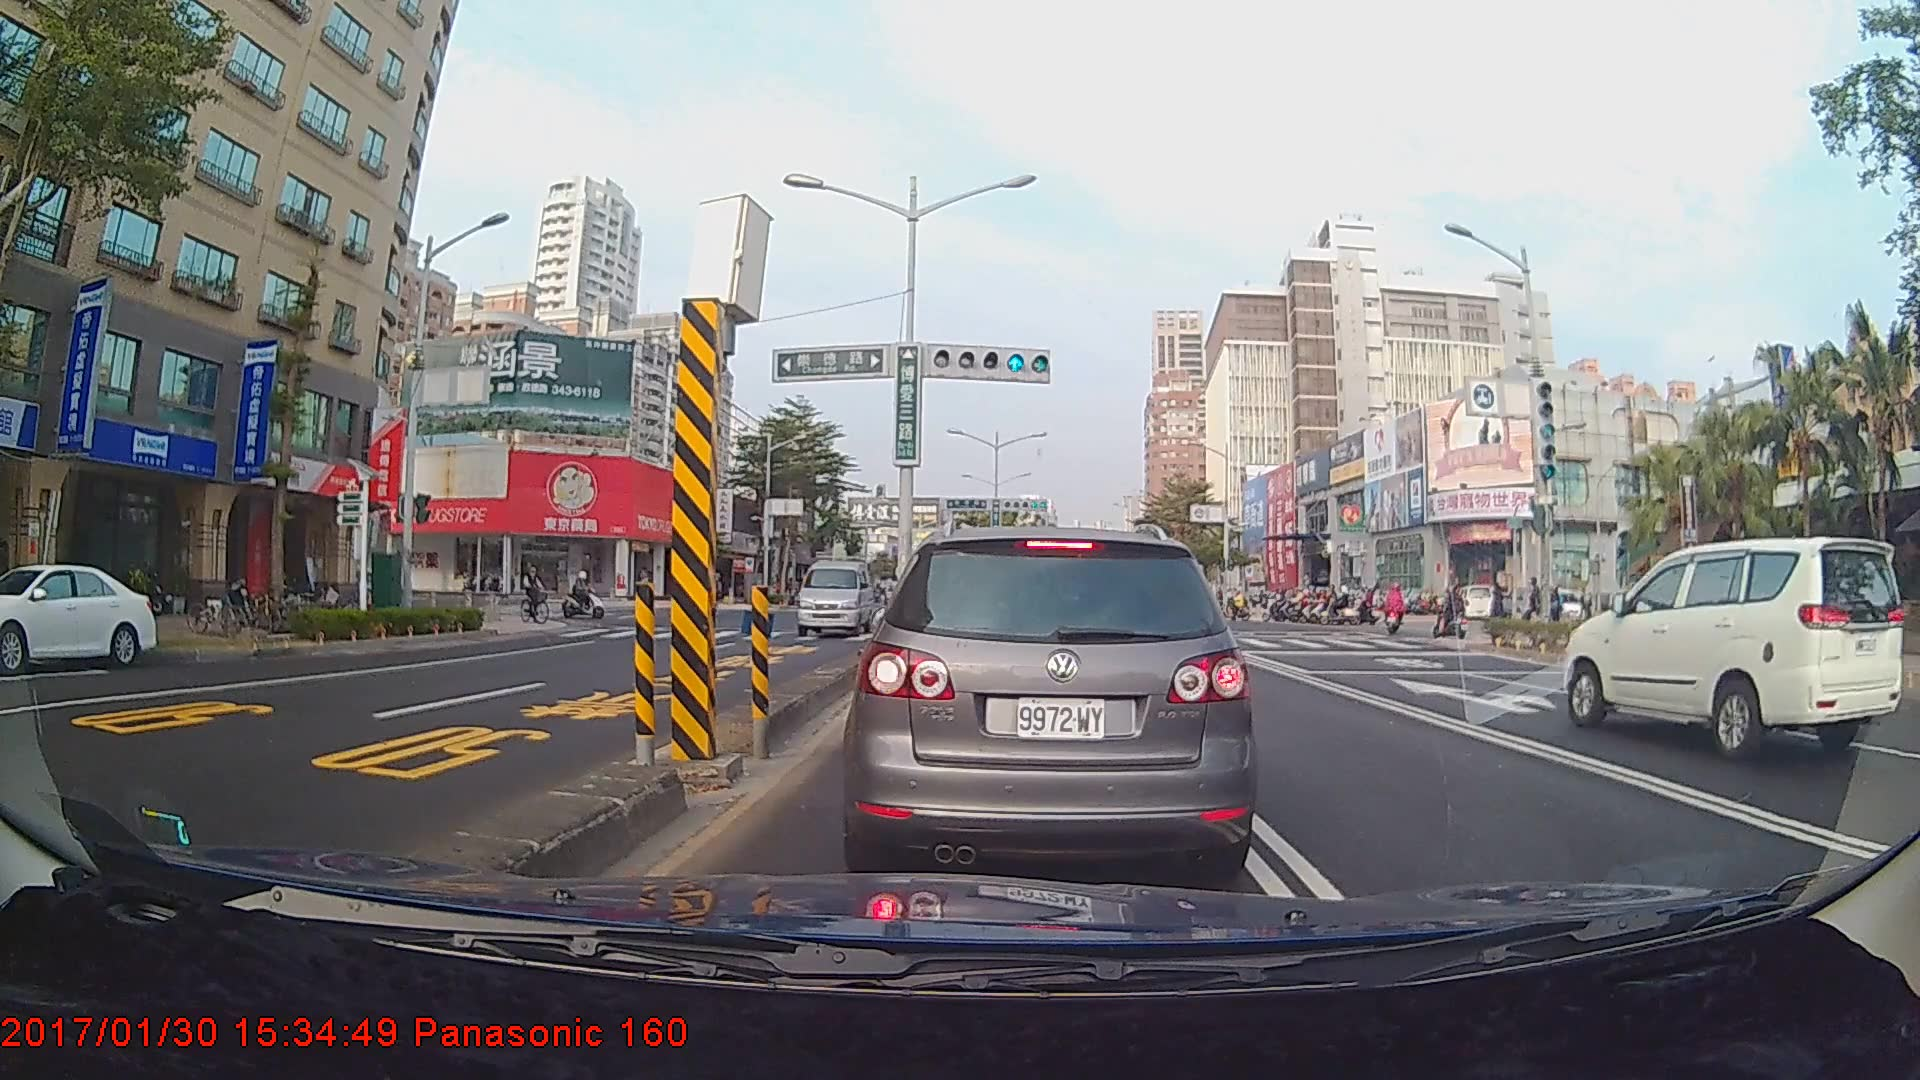pedestrian: (1490, 579, 1512, 637)
rider: (563, 568, 614, 625), (518, 559, 558, 629), (1436, 582, 1473, 646), (1384, 580, 1410, 640)
vehicle: (855, 522, 1250, 875), (1561, 535, 1904, 763), (0, 561, 159, 671), (796, 548, 877, 636)
